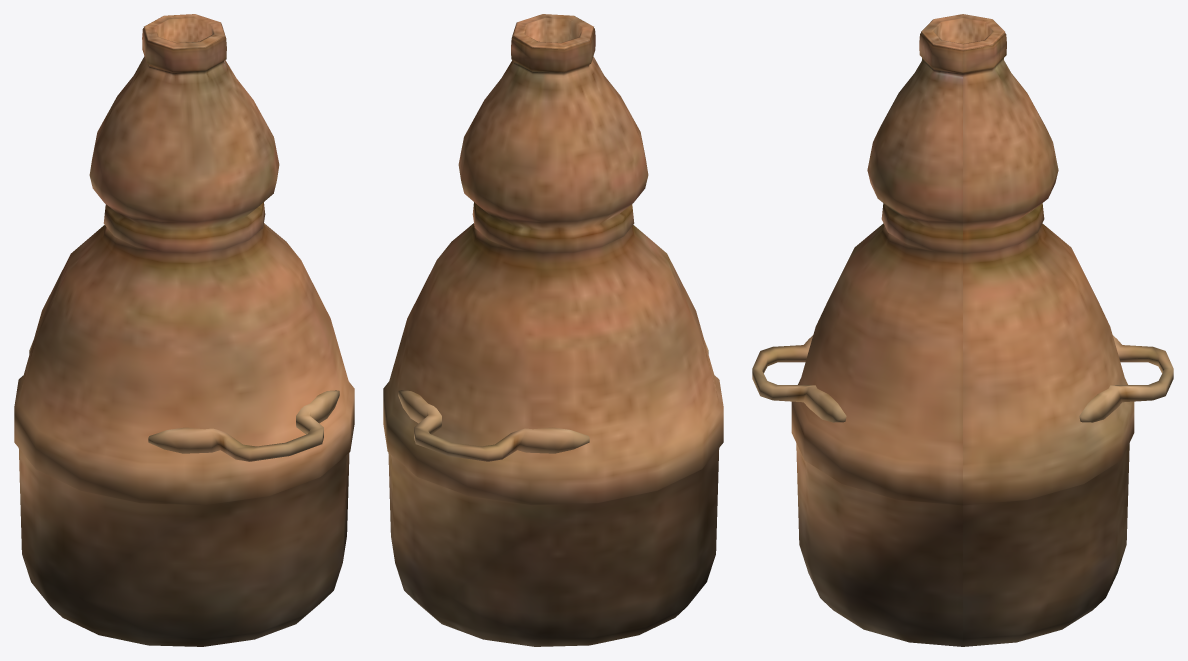
Rendered from component_athanor.glb.
The picture shows the model from 3 angles, left to right: view 1: azimuth 30°, elevation 25°; view 2: azimuth 150°, elevation 25°; view 3: azimuth 270°, elevation 25°; orthographic projection.
Visible parts, largest first — view 1: npc_props_athanor_01; view 2: npc_props_athanor_01; view 3: npc_props_athanor_01.
Part boxes in pixels (<box>): npc_props_athanor_01: <box>14,14,354,646</box>; npc_props_athanor_01: <box>383,14,723,646</box>; npc_props_athanor_01: <box>752,14,1173,646</box>.
Size of the model in its own units: 0.9532 by 1.75 by 1.17.
1 material, 1 textured.
